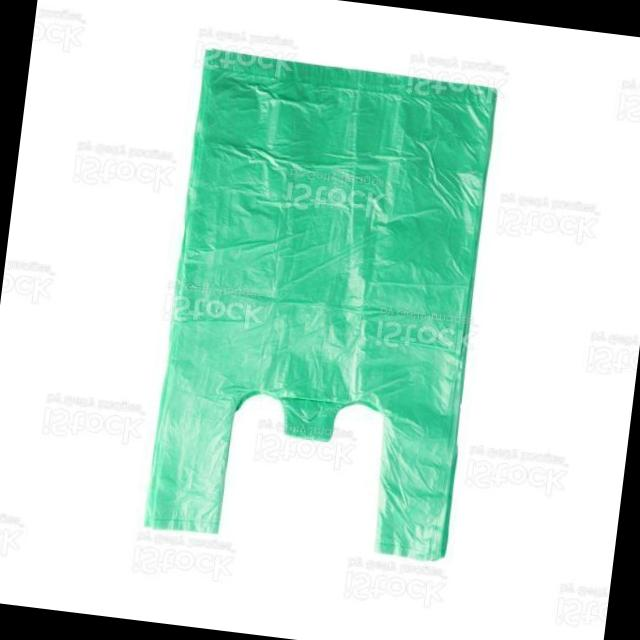KantongPlastik: (140, 48, 503, 570)
